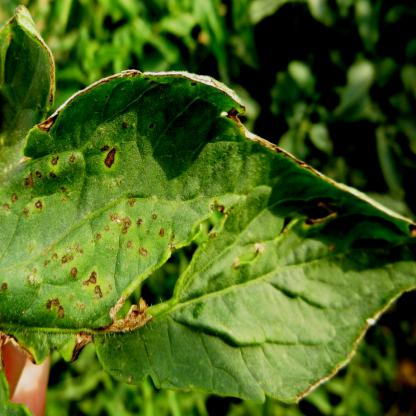tomato leaf bacterial spot: (7, 52, 409, 393)
